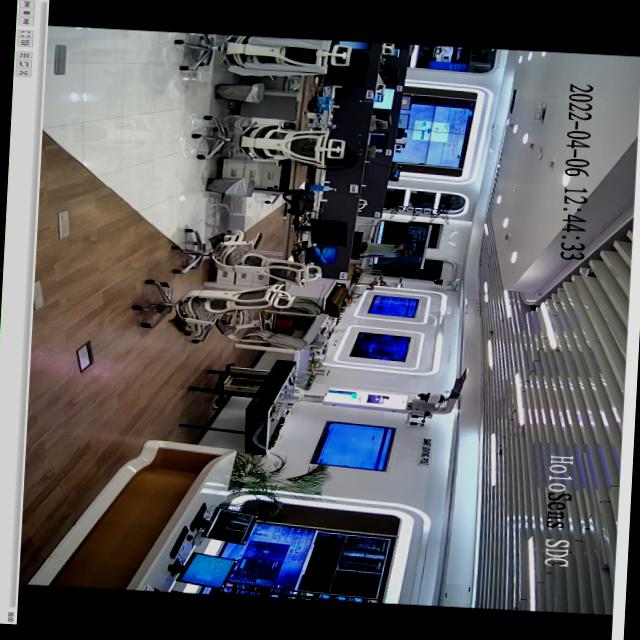long weapon: (393, 234, 420, 250)
